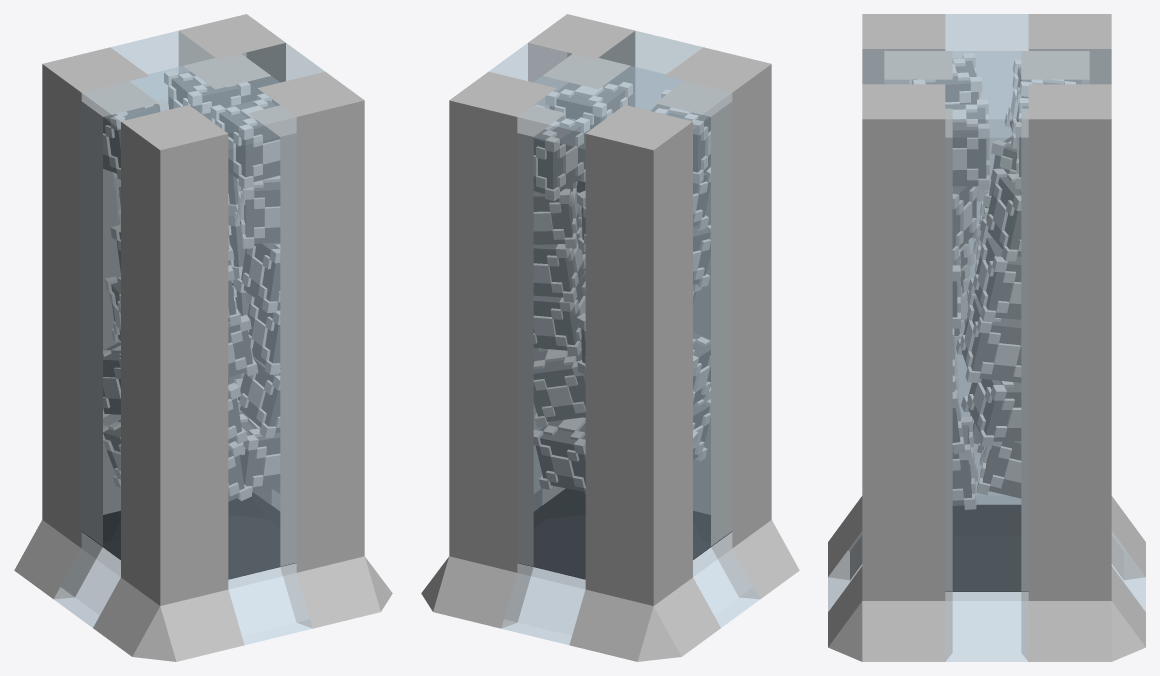
Rendered from BlockSpawner.fbx.
3 views of the same model, side by side, from view 1: azimuth 30°, elevation 25°; view 2: azimuth 150°, elevation 25°; view 3: azimuth 270°, elevation 25° (orthographic). The views are drawn at different scales.
Parts seen in each view (by area): view 1: Cube.001, Plane, Cube, Cube.005, Cube.021, Cube.009, Cube.002, Cube.017, Cube.013, Cube.004, Cube.015, Cube.020 (+5 smaller); view 2: Cube.001, Plane, Cube.002, Cube.018, Cube.022, Cube.014, Cube.010, Cube, Cube.006, Cube.003, Cube.019, Cube.011 (+2 smaller); view 3: Cube.001, Plane, Cube.014, Cube, Cube.010, Cube.018, Cube.006, Cube.022, Cube.021, Cube.003, Cube.005, Cube.004 (+5 smaller).
Part boxes in pixels (bbox=[...]): Cube.001: bbox=[14, 14, 392, 661]; Plane: bbox=[82, 492, 295, 579]; Cube: bbox=[210, 93, 280, 188]; Cube.005: bbox=[235, 175, 280, 248]; Cube.021: bbox=[239, 413, 280, 496]; Cube.009: bbox=[235, 242, 280, 312]; Cube.002: bbox=[164, 70, 250, 123]; Cube.017: bbox=[237, 357, 280, 437]; Cube.013: bbox=[245, 292, 280, 374]; Cube.004: bbox=[103, 99, 168, 179]; Cube.015: bbox=[228, 310, 258, 377]; Cube.020: bbox=[103, 341, 120, 417]; Cube.001: bbox=[421, 14, 799, 661]; Plane: bbox=[518, 488, 731, 579]; Cube.002: bbox=[533, 104, 589, 200]; Cube.018: bbox=[533, 342, 585, 427]; Cube.022: bbox=[533, 417, 585, 493]; Cube.014: bbox=[533, 272, 585, 355]; Cube.010: bbox=[533, 217, 585, 302]; Cube: bbox=[545, 82, 632, 132]; Cube.006: bbox=[533, 181, 581, 248]; Cube.003: bbox=[651, 89, 710, 183]; Cube.019: bbox=[693, 332, 710, 404]; Cube.011: bbox=[693, 225, 710, 287]; Cube.001: bbox=[828, 14, 1145, 661]; Plane: bbox=[946, 505, 1027, 591]; Cube.014: bbox=[956, 292, 1021, 383]; Cube: bbox=[945, 99, 989, 190]; Cube.010: bbox=[968, 232, 1021, 322]; Cube.018: bbox=[961, 378, 1021, 446]; Cube.006: bbox=[980, 168, 1021, 261]; Cube.022: bbox=[976, 441, 1021, 498]; Cube.021: bbox=[952, 416, 978, 509]; Cube.003: bbox=[907, 53, 982, 104]; Cube.005: bbox=[952, 186, 980, 260]; Cube.004: bbox=[1004, 59, 1081, 148].
Bounding box in the file's own units: 930 × 1704 × 930.
